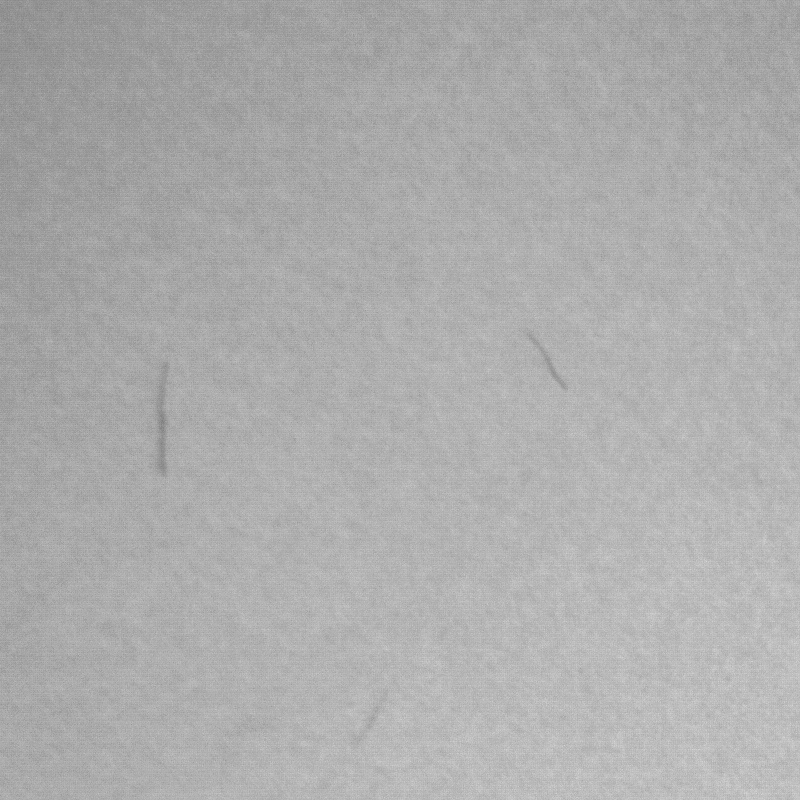defect: (527, 330, 574, 398), (351, 691, 388, 747), (156, 363, 169, 478)
